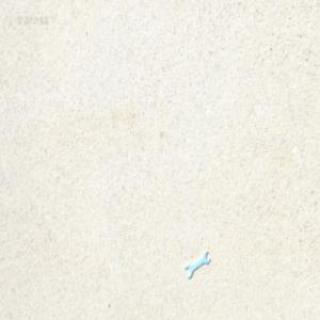Wrenchtrack_idkeyframe: (184, 248, 210, 277)
